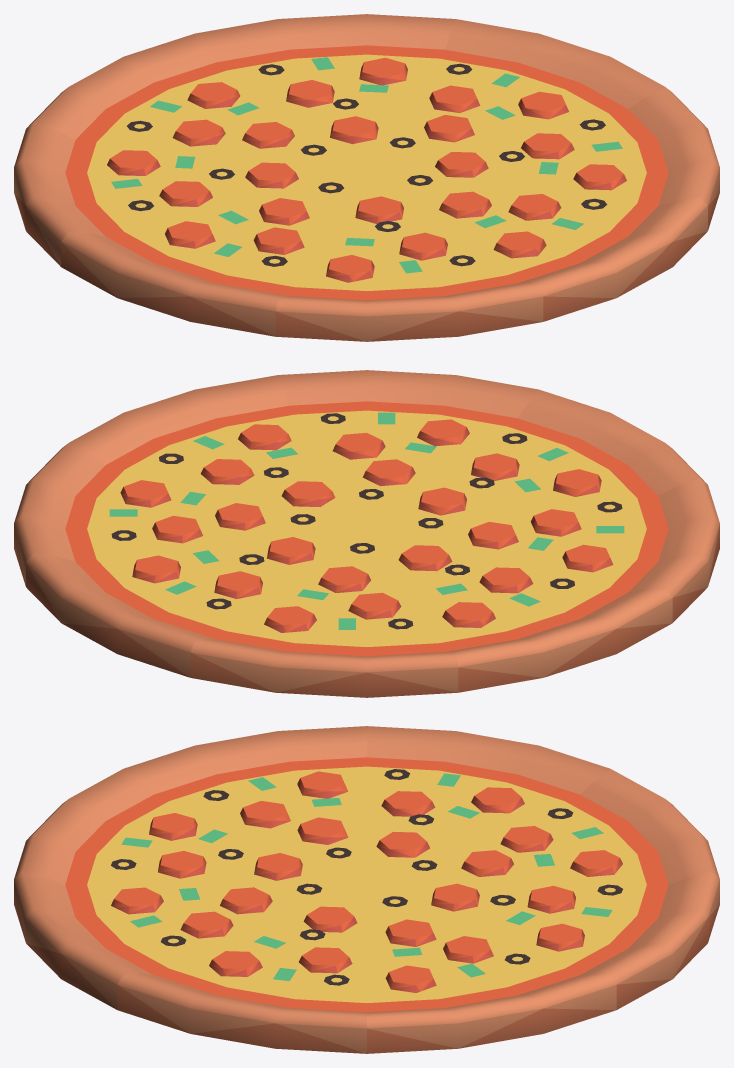
File: pizza.glb
The picture shows the model from 3 angles, top to bottom: view 1: azimuth 30°, elevation 25°; view 2: azimuth 150°, elevation 25°; view 3: azimuth 270°, elevation 25°; orthographic projection.
Visible parts, largest first — view 1: slice6; view 2: slice6; view 3: slice6.
Boxes of the visible parts, x1,y1,x2,y2 form: slice6: (14,14,719,341); slice6: (14,370,719,697); slice6: (14,726,719,1053).
Size of the model in its own units: 0.8418 by 0.0435 by 0.8418.
